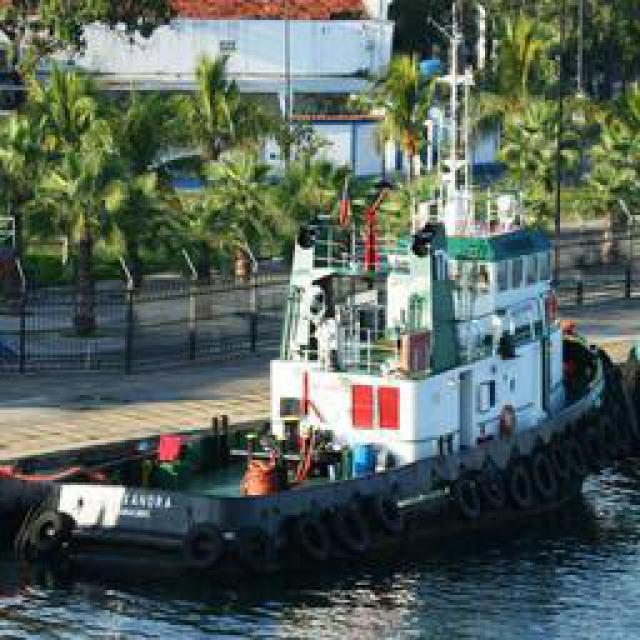Ship: (17, 130, 620, 590)
